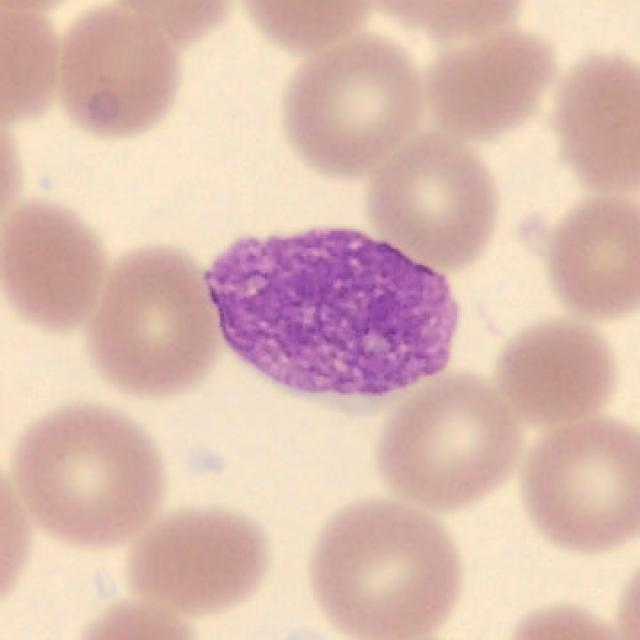Restos celulares: (203, 229, 460, 398)
